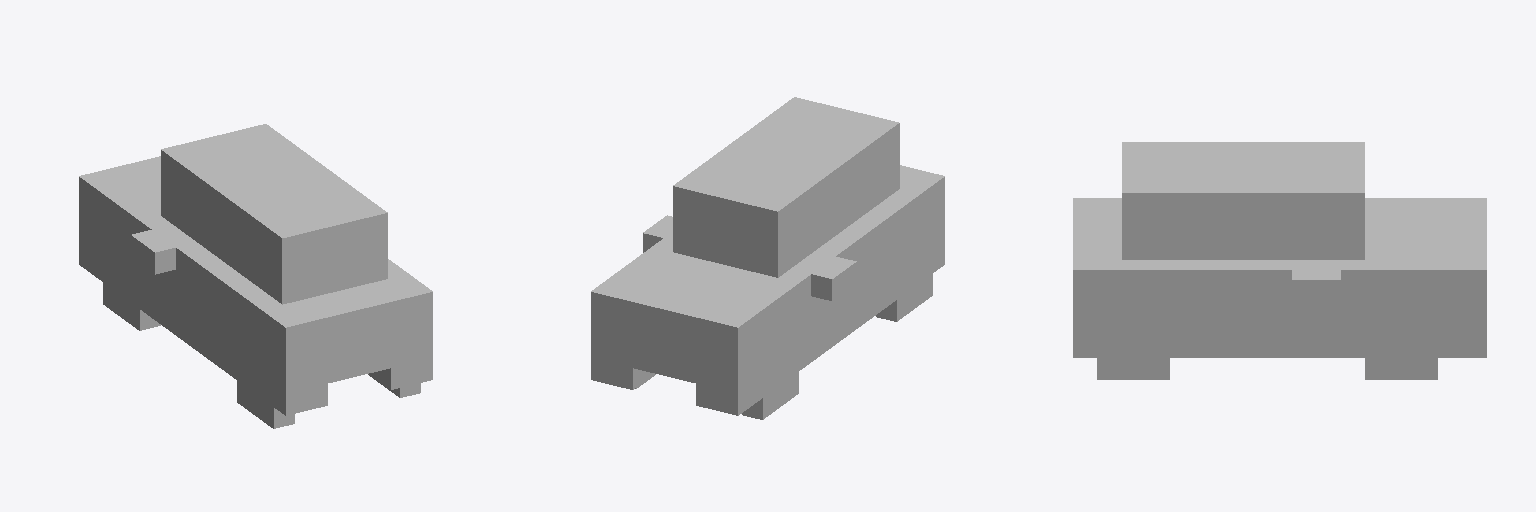
Rendered from car.obj.
3 renders of one model, left to right at view 1: azimuth 30°, elevation 25°; view 2: azimuth 150°, elevation 25°; view 3: azimuth 270°, elevation 25°, orthographic.
Parts seen in each view (by area): view 1: object 1; view 2: object 1; view 3: object 1.
Part boxes in pixels (x1,y1,x2,y2): object 1: (79, 124, 432, 428); object 1: (591, 97, 944, 419); object 1: (1073, 142, 1486, 379).
Bounding box in the file's own units: 0.9 × 0.8 × 1.7.